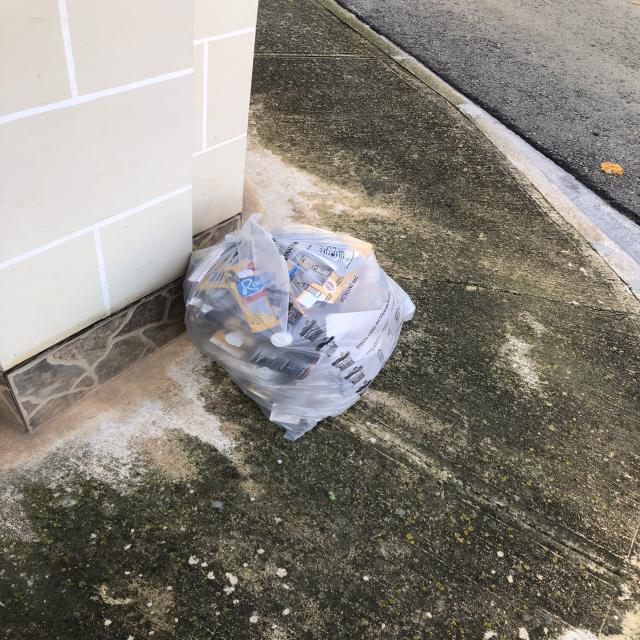Organic Waste -White Bag-: (177, 226, 418, 438)
